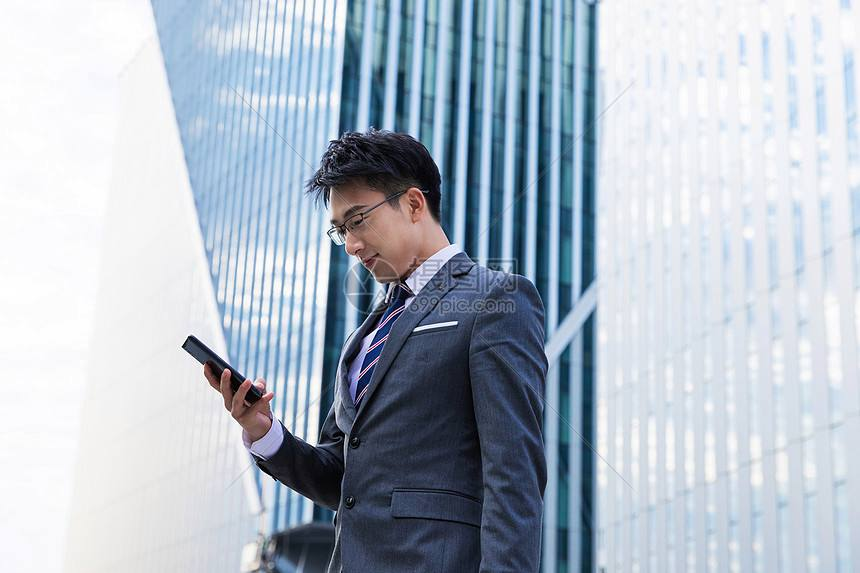reading: (179, 331, 278, 435)
